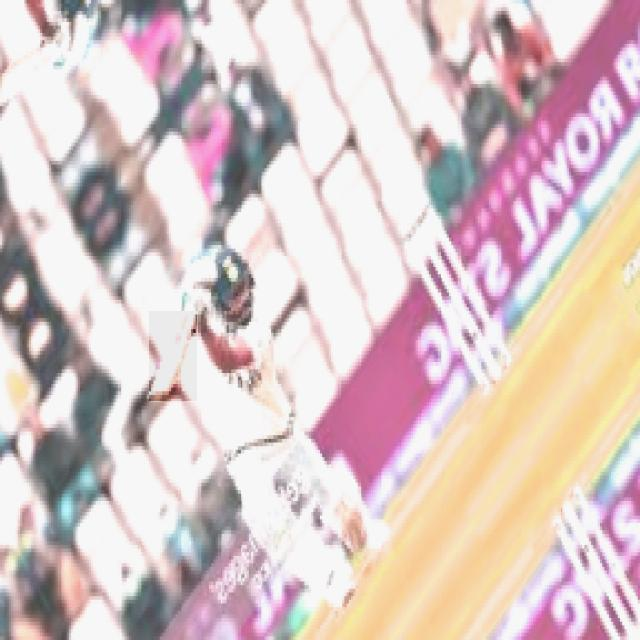bat: (147, 298, 195, 399)
toe: (148, 384, 183, 403)
